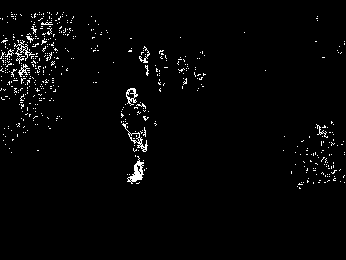person: (121, 86, 157, 185), (153, 48, 169, 92), (193, 49, 207, 93), (177, 54, 189, 90), (138, 44, 150, 76)
